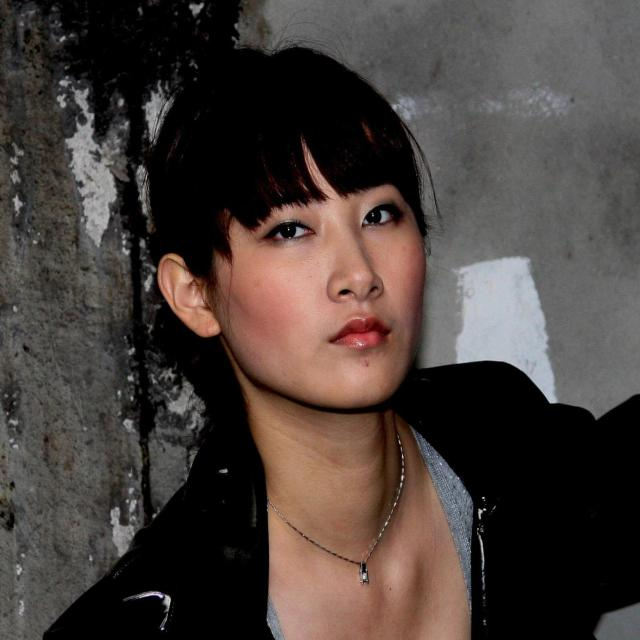no-glass: (258, 200, 399, 237)
